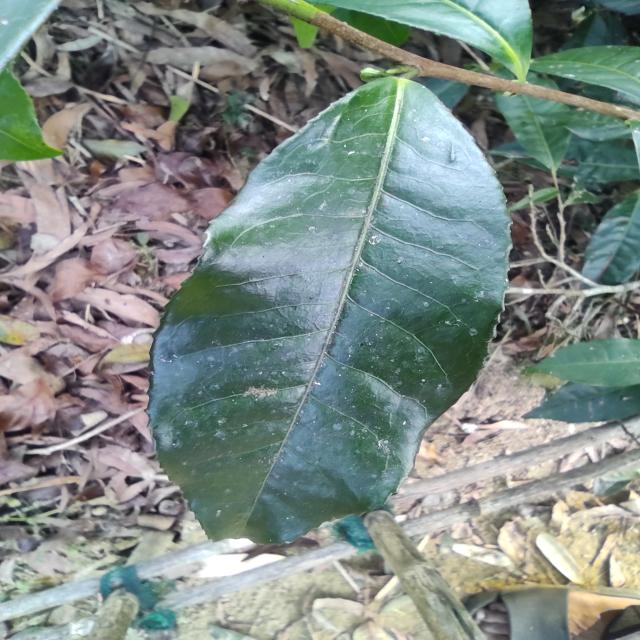Category D(7+ days, Not for Tea): (112, 70, 522, 557)
